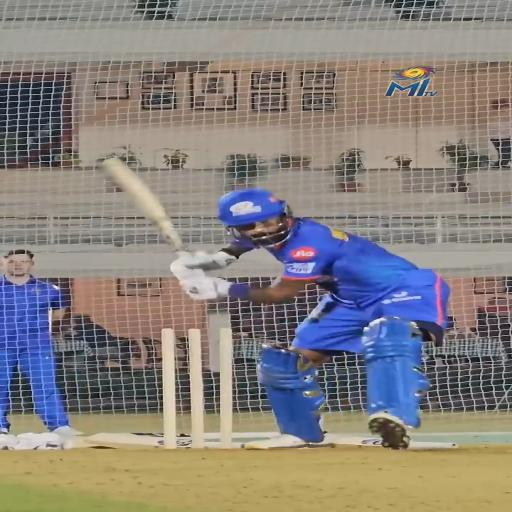Cricket bat: (102, 158, 186, 254)
